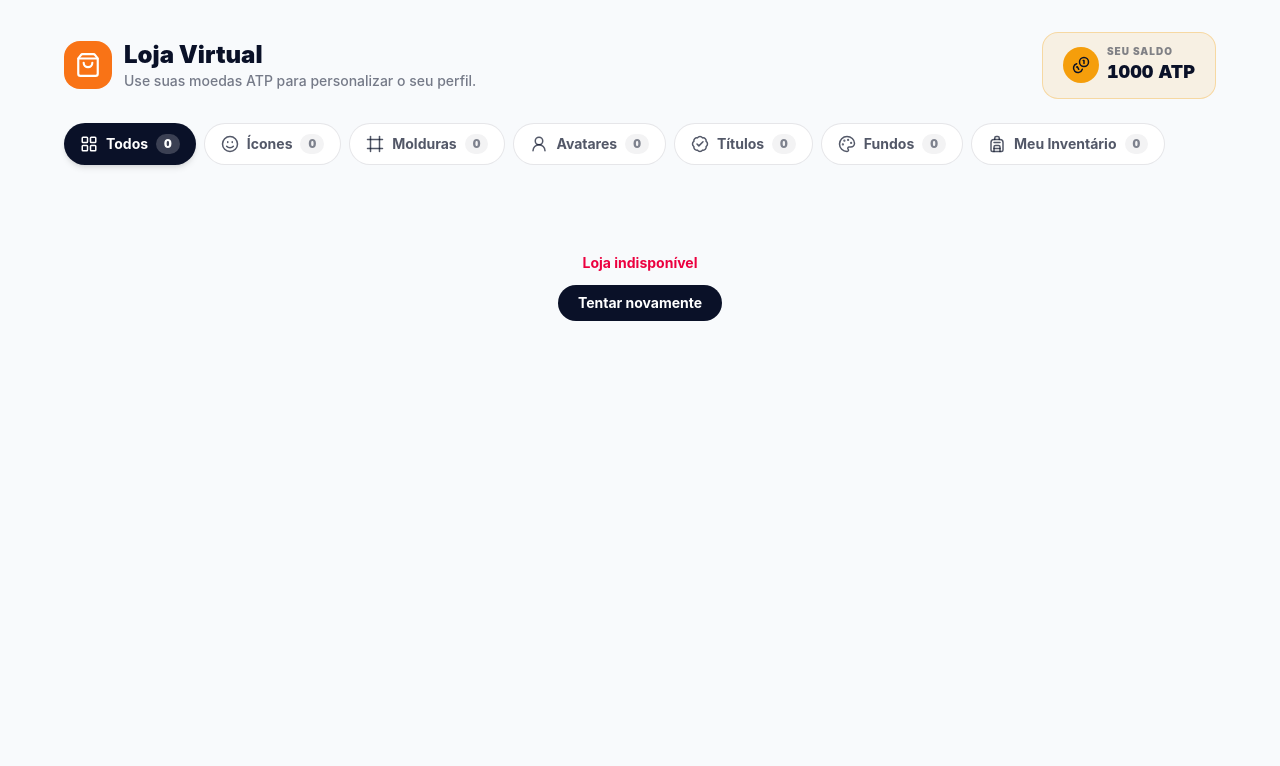
Test: LojaPage › exibe erro de carregamento e tenta novamente
Check: the text "Loja indisponível" is shown, box [582,252,697,272]
Click the button "Tentar novamente" at (640, 302), box [558,284,722,320]
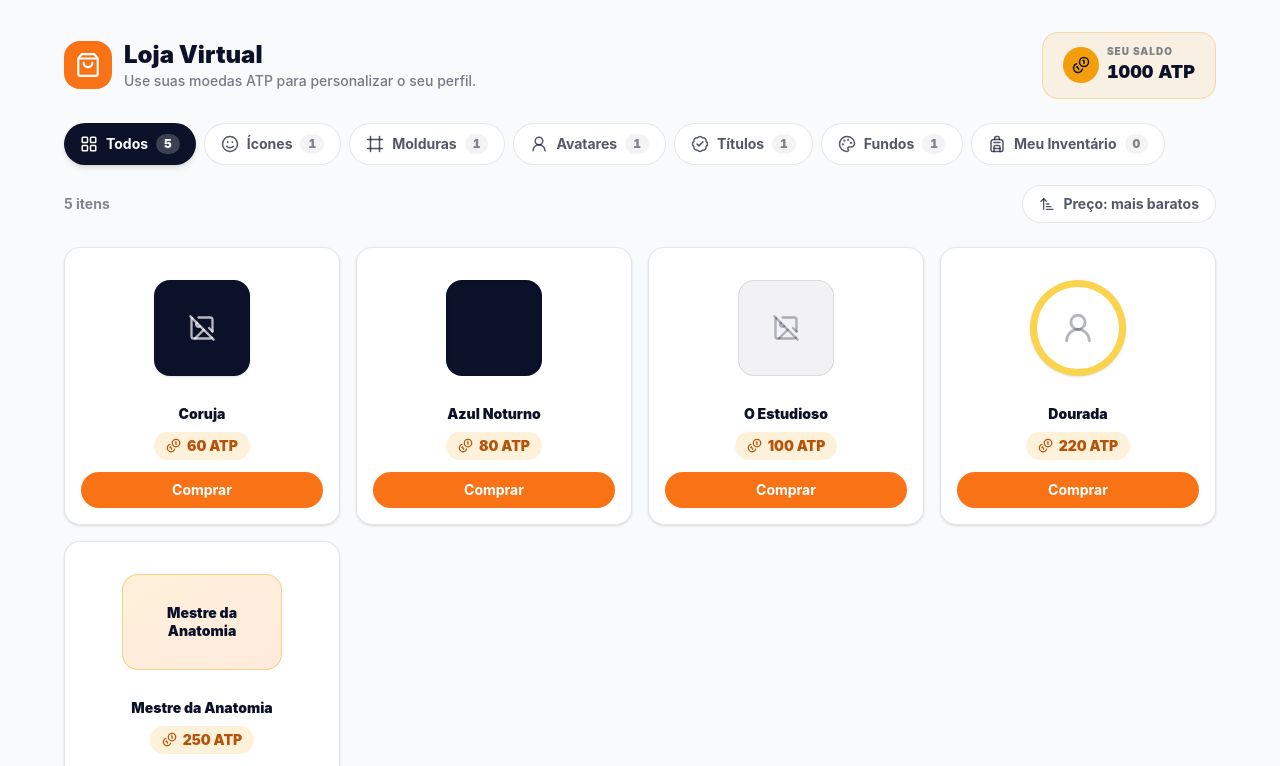
Check: the heading "Coruja" is shown, box [179,404,226,424]
